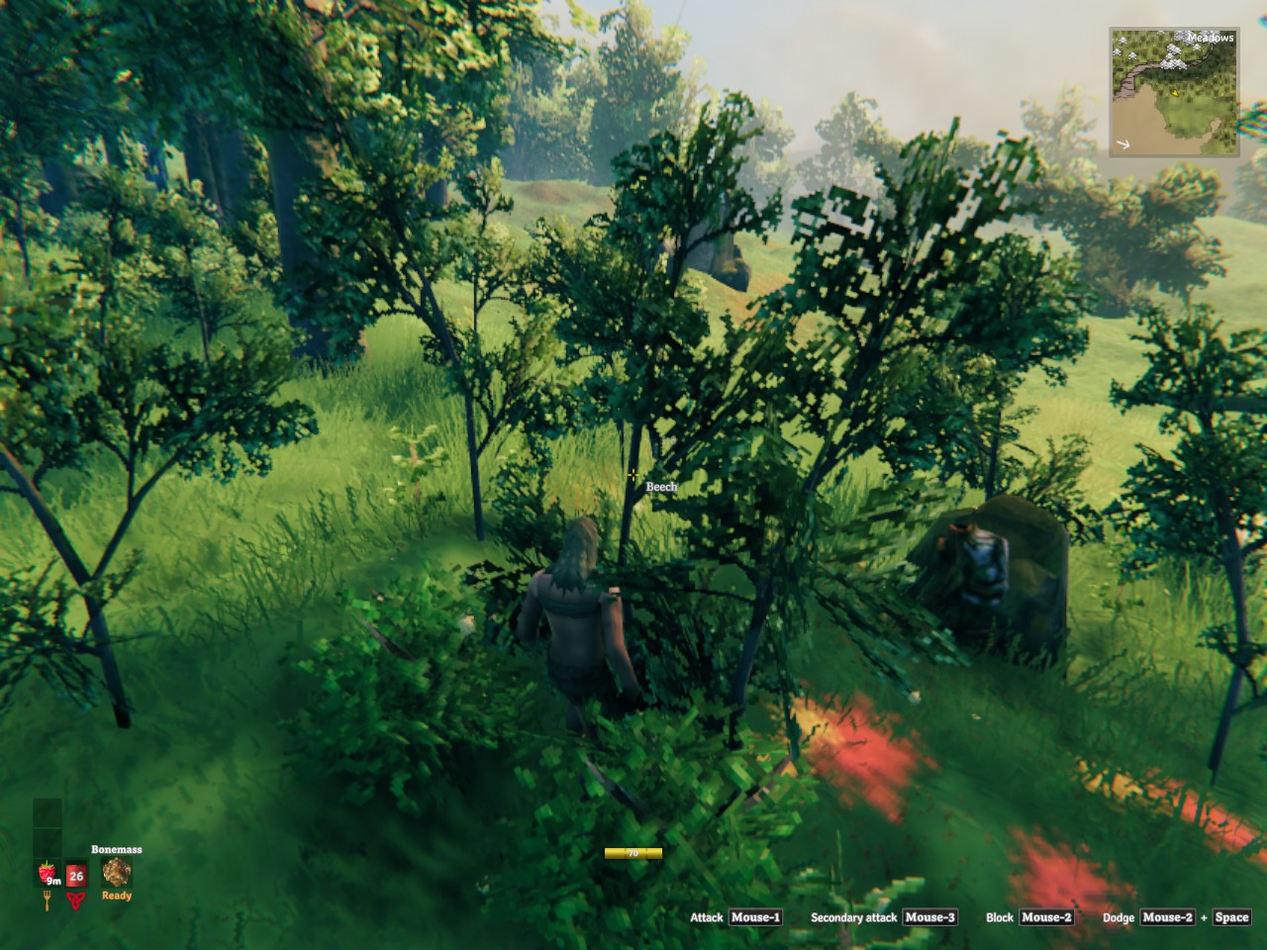Greyling: (938, 523, 1007, 606)
